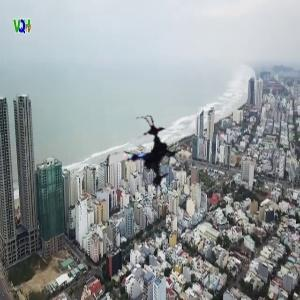drone: (100, 116, 190, 206)
